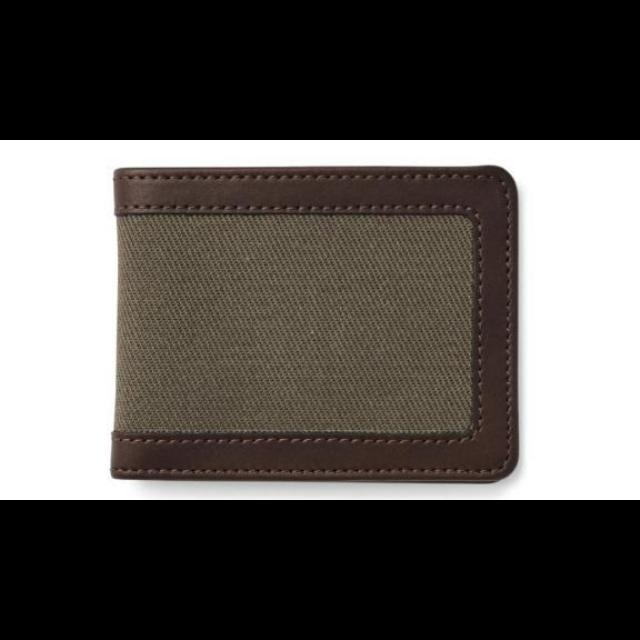Wallet: (107, 160, 523, 482)
